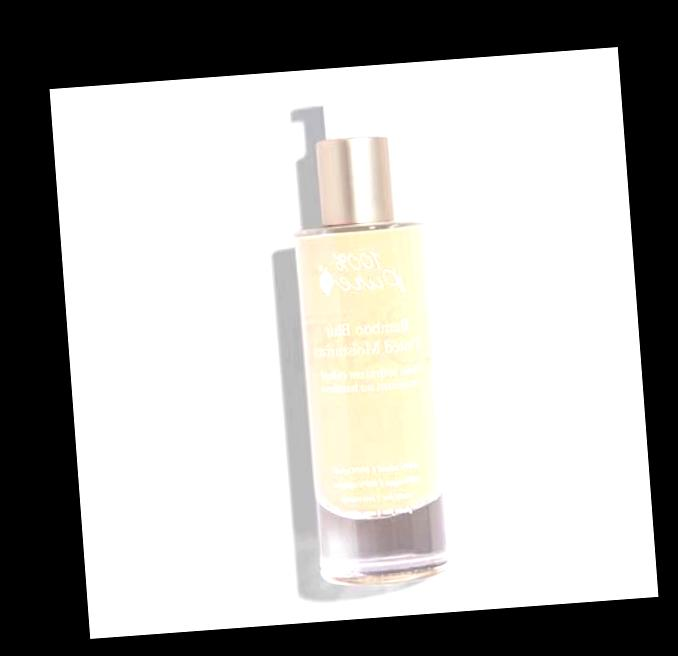cosmetic: (283, 85, 453, 579)
